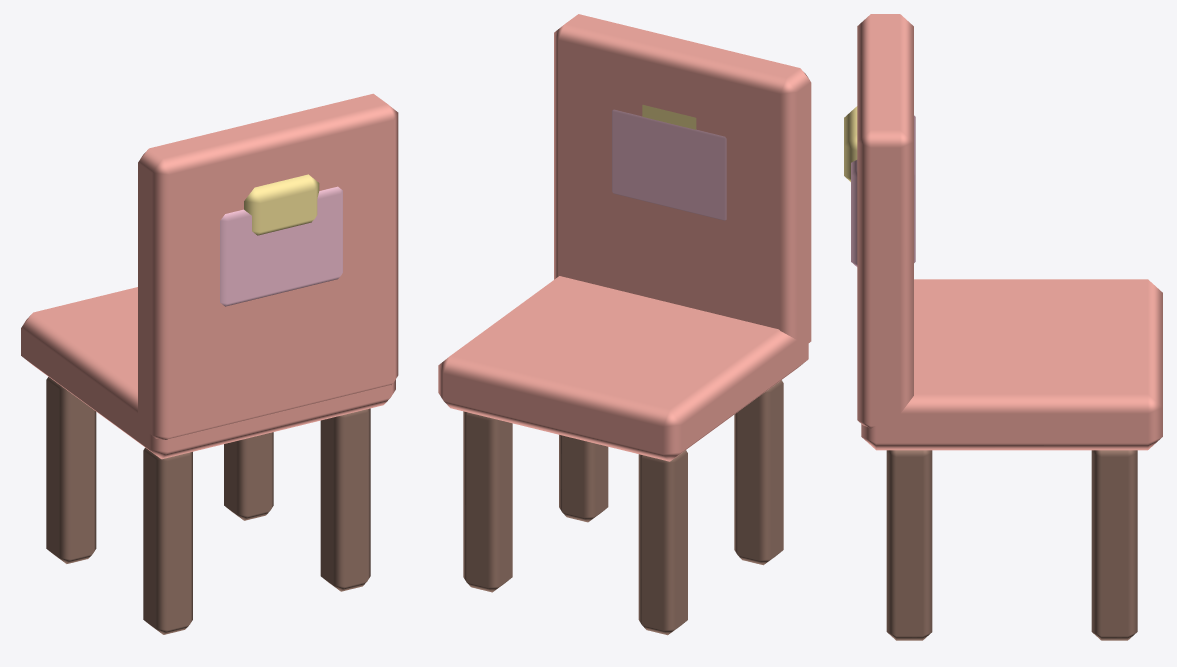
Rendered from dining_chair_coral.glb.
The picture shows the model from 3 angles, left to right: view 1: azimuth 30°, elevation 25°; view 2: azimuth 150°, elevation 25°; view 3: azimuth 270°, elevation 25°; orthographic projection. The views are drawn at different scales.
Parts seen in each view (by area): view 1: DiningChairCoral_Back, DiningChairCoral_Seat, DiningChairCoral_BackInset, DiningChairCoral_Leg_BL, DiningChairCoral_Leg_BR, DiningChairCoral_Leg_FL, DiningChairCoral_Leg_FR, DiningChairCoral_BackBadge; view 2: DiningChairCoral_Back, DiningChairCoral_Seat, DiningChairCoral_BackInset, DiningChairCoral_Leg_FL, DiningChairCoral_Leg_FR, DiningChairCoral_Leg_BL, DiningChairCoral_Leg_BR, DiningChairCoral_BackBadge; view 3: DiningChairCoral_Seat, DiningChairCoral_Back, DiningChairCoral_Leg_BR, DiningChairCoral_Leg_FR, DiningChairCoral_BackInset, DiningChairCoral_BackBadge.
Boxes of the visible parts, <box> form: DiningChairCoral_Back: <box>138,93,398,439</box>; DiningChairCoral_Seat: <box>21,287,395,459</box>; DiningChairCoral_BackInset: <box>220,186,342,306</box>; DiningChairCoral_Leg_BL: <box>143,447,192,634</box>; DiningChairCoral_Leg_BR: <box>320,408,370,591</box>; DiningChairCoral_Leg_FL: <box>46,377,96,563</box>; DiningChairCoral_Leg_FR: <box>224,432,273,520</box>; DiningChairCoral_BackBadge: <box>244,174,319,235</box>; DiningChairCoral_Back: <box>554,14,811,351</box>; DiningChairCoral_Seat: <box>438,276,808,461</box>; DiningChairCoral_BackInset: <box>612,109,726,220</box>; DiningChairCoral_Leg_FL: <box>638,450,687,635</box>; DiningChairCoral_Leg_FR: <box>463,411,512,592</box>; DiningChairCoral_Leg_BL: <box>734,380,783,565</box>; DiningChairCoral_Leg_BR: <box>559,434,608,522</box>; DiningChairCoral_BackBadge: <box>642,105,696,129</box>; DiningChairCoral_Seat: <box>861,279,1162,450</box>; DiningChairCoral_Back: <box>857,14,913,428</box>; DiningChairCoral_Leg_BR: <box>886,450,932,640</box>; DiningChairCoral_Leg_FR: <box>1091,450,1137,640</box>; DiningChairCoral_BackInset: <box>851,115,915,266</box>; DiningChairCoral_BackBadge: <box>844,106,857,181</box>.
Size of the model in its own units: 0.56 by 1.06 by 0.592.
